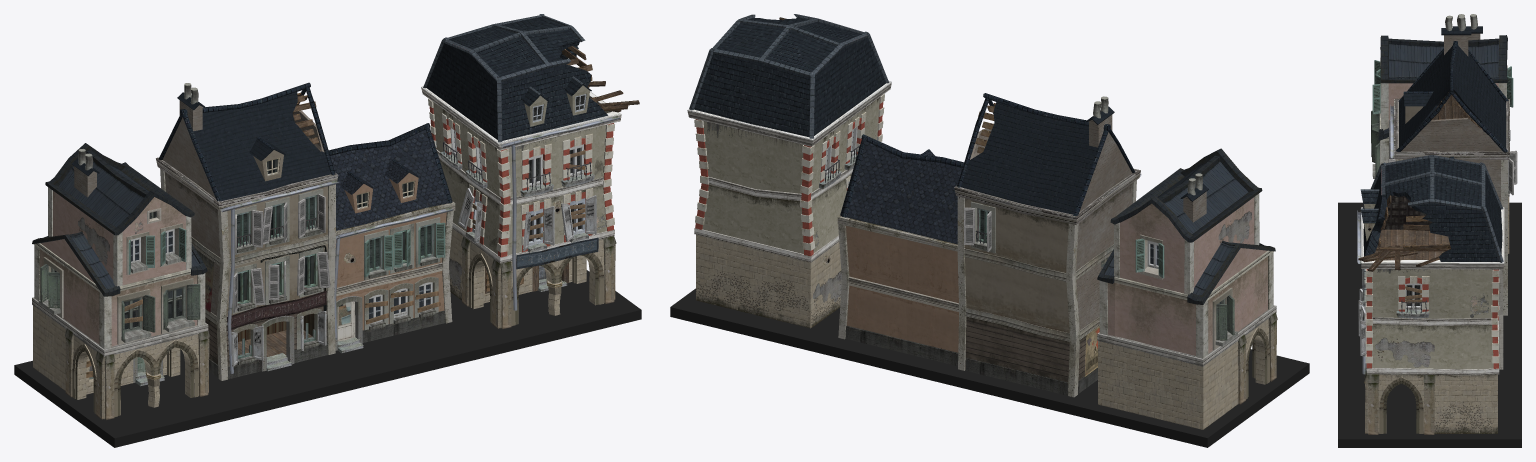
The model's file is 3_buildings_-_ww2_carentan_inspired.glb.
3 renders of one model, left to right at view 1: azimuth 30°, elevation 25°; view 2: azimuth 150°, elevation 25°; view 3: azimuth 270°, elevation 25°, orthographic. The views are drawn at different scales.
Visible parts, largest first — view 1: Houses_22 - Default_0, Houses_trims_1D_0, Houses_Marche_Roof_0, Houses_Marche_Tiling_0, Houses_roof_tall_0, Houses_Marche_door_glass_0, Houses_flowers_trims_0, Houses_Marche_Windowframes_0, Houses_unique_windows_0, Houses_Marche_First_Floor_0, Houses_flowers_windows_0, Houses_flower_walls_0 (+14 smaller); view 2: Houses_Marche_First_Floor_0, Houses_trims_1D_0, Houses_Marche_Roof_0, Houses_22 - Default_0, Houses_Marche_Other_Floors_0, Houses_flower_walls_0, Houses_plaster_walls_short_0, Houses_roof_tall_0, Houses_flowers_trims_0, Houses_plaster_walls_tall_0, Houses_Marche_Tiling_0, Houses_roof_short_0 (+11 smaller); view 3: Houses_22 - Default_0, Houses_Marche_Other_Floors_0, Houses_Marche_Roof_0, Houses_Marche_Tiling_0, Houses_roof_tall_0, Houses_Marche_First_Floor_0, Houses_trims_1D_0, Houses_brick_walls_sides_0, Houses_Marche_Opacity_0, Houses_flowers_trims_0, Houses_flowers_roof_0, Houses_Marche_Unique_Windows_0 (+8 smaller).
Boxes of the visible parts, bbox=[...] form: Houses_22 - Default_0: bbox=[14, 270, 641, 447]; Houses_trims_1D_0: bbox=[156, 82, 455, 380]; Houses_Marche_Roof_0: bbox=[426, 17, 607, 140]; Houses_Marche_Tiling_0: bbox=[220, 14, 621, 373]; Houses_roof_tall_0: bbox=[71, 91, 330, 200]; Houses_Marche_door_glass_0: bbox=[65, 151, 616, 419]; Houses_flowers_trims_0: bbox=[32, 143, 208, 357]; Houses_Marche_Windowframes_0: bbox=[231, 94, 614, 366]; Houses_unique_windows_0: bbox=[78, 83, 434, 358]; Houses_Marche_First_Floor_0: bbox=[33, 225, 604, 419]; Houses_flowers_windows_0: bbox=[38, 208, 445, 379]; Houses_flower_walls_0: bbox=[40, 191, 197, 346]; Houses_Marche_First_Floor_0: bbox=[696, 234, 1268, 429]; Houses_trims_1D_0: bbox=[837, 93, 1140, 397]; Houses_Marche_Roof_0: bbox=[694, 17, 886, 137]; Houses_22 - Default_0: bbox=[670, 288, 1309, 447]; Houses_Marche_Other_Floors_0: bbox=[702, 98, 879, 253]; Houses_flower_walls_0: bbox=[1107, 197, 1267, 355]; Houses_plaster_walls_short_0: bbox=[846, 226, 958, 352]; Houses_roof_tall_0: bbox=[961, 101, 1208, 214]; Houses_flowers_trims_0: bbox=[1097, 148, 1276, 366]; Houses_plaster_walls_tall_0: bbox=[965, 196, 1069, 332]; Houses_Marche_Tiling_0: bbox=[687, 14, 1141, 262]; Houses_roof_short_0: bbox=[847, 141, 962, 244]; Houses_22 - Default_0: bbox=[1338, 202, 1521, 447]; Houses_Marche_Other_Floors_0: bbox=[1364, 204, 1493, 369]; Houses_Marche_Roof_0: bbox=[1361, 157, 1502, 261]; Houses_Marche_Tiling_0: bbox=[1357, 105, 1504, 375]; Houses_roof_tall_0: bbox=[1399, 26, 1506, 148]; Houses_Marche_First_Floor_0: bbox=[1367, 196, 1509, 433]; Houses_trims_1D_0: bbox=[1394, 41, 1509, 369]; Houses_brick_walls_sides_0: bbox=[1401, 33, 1502, 201]; Houses_Marche_Opacity_0: bbox=[1366, 223, 1497, 433]; Houses_flowers_trims_0: bbox=[1378, 35, 1510, 196]; Houses_flowers_roof_0: bbox=[1383, 43, 1499, 134]; Houses_Marche_Unique_Windows_0: bbox=[1358, 92, 1480, 313].
Size of the model in its own units: 3679 by 1813 by 1174.
28 materials, 27 textured.
